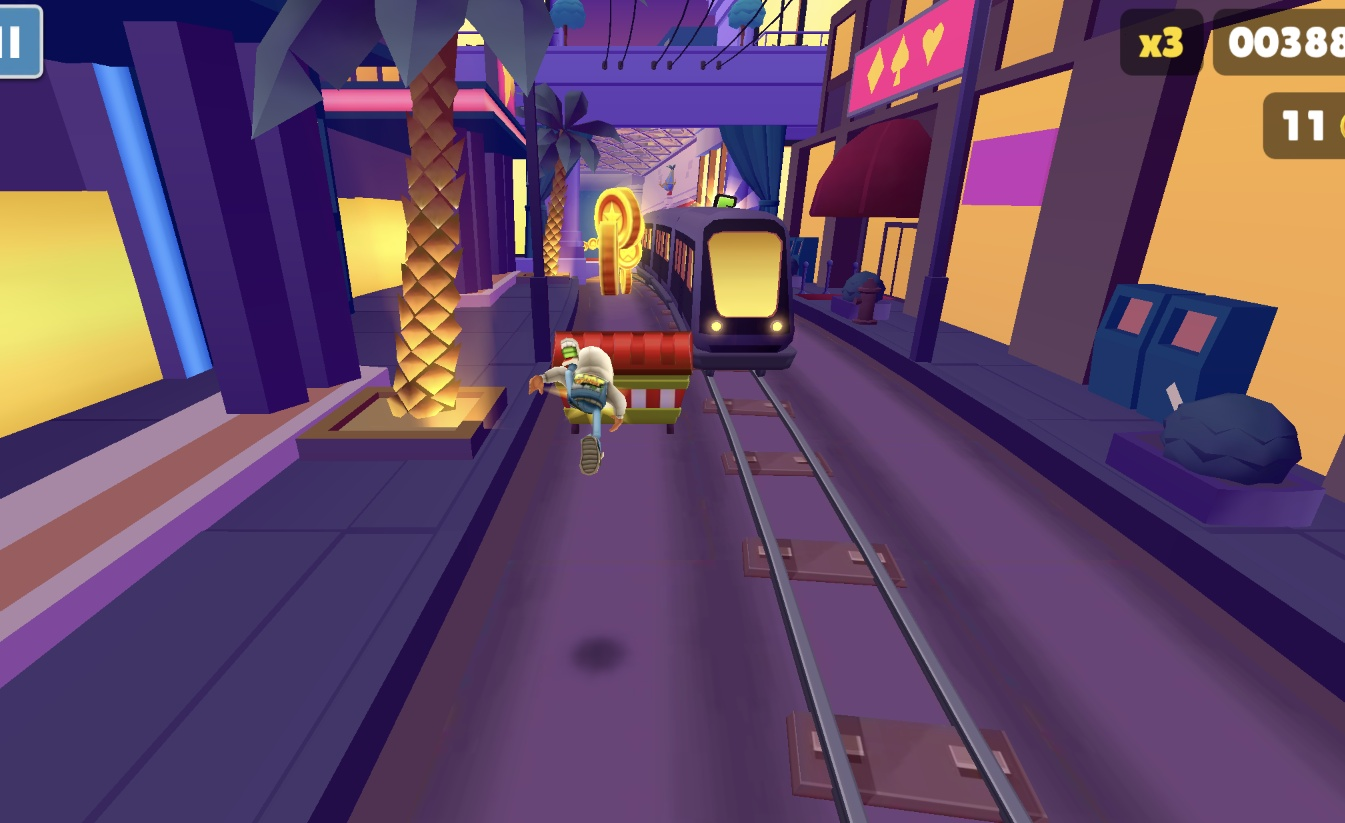ground_barrier: (552, 333, 696, 433)
train: (644, 206, 803, 367)
